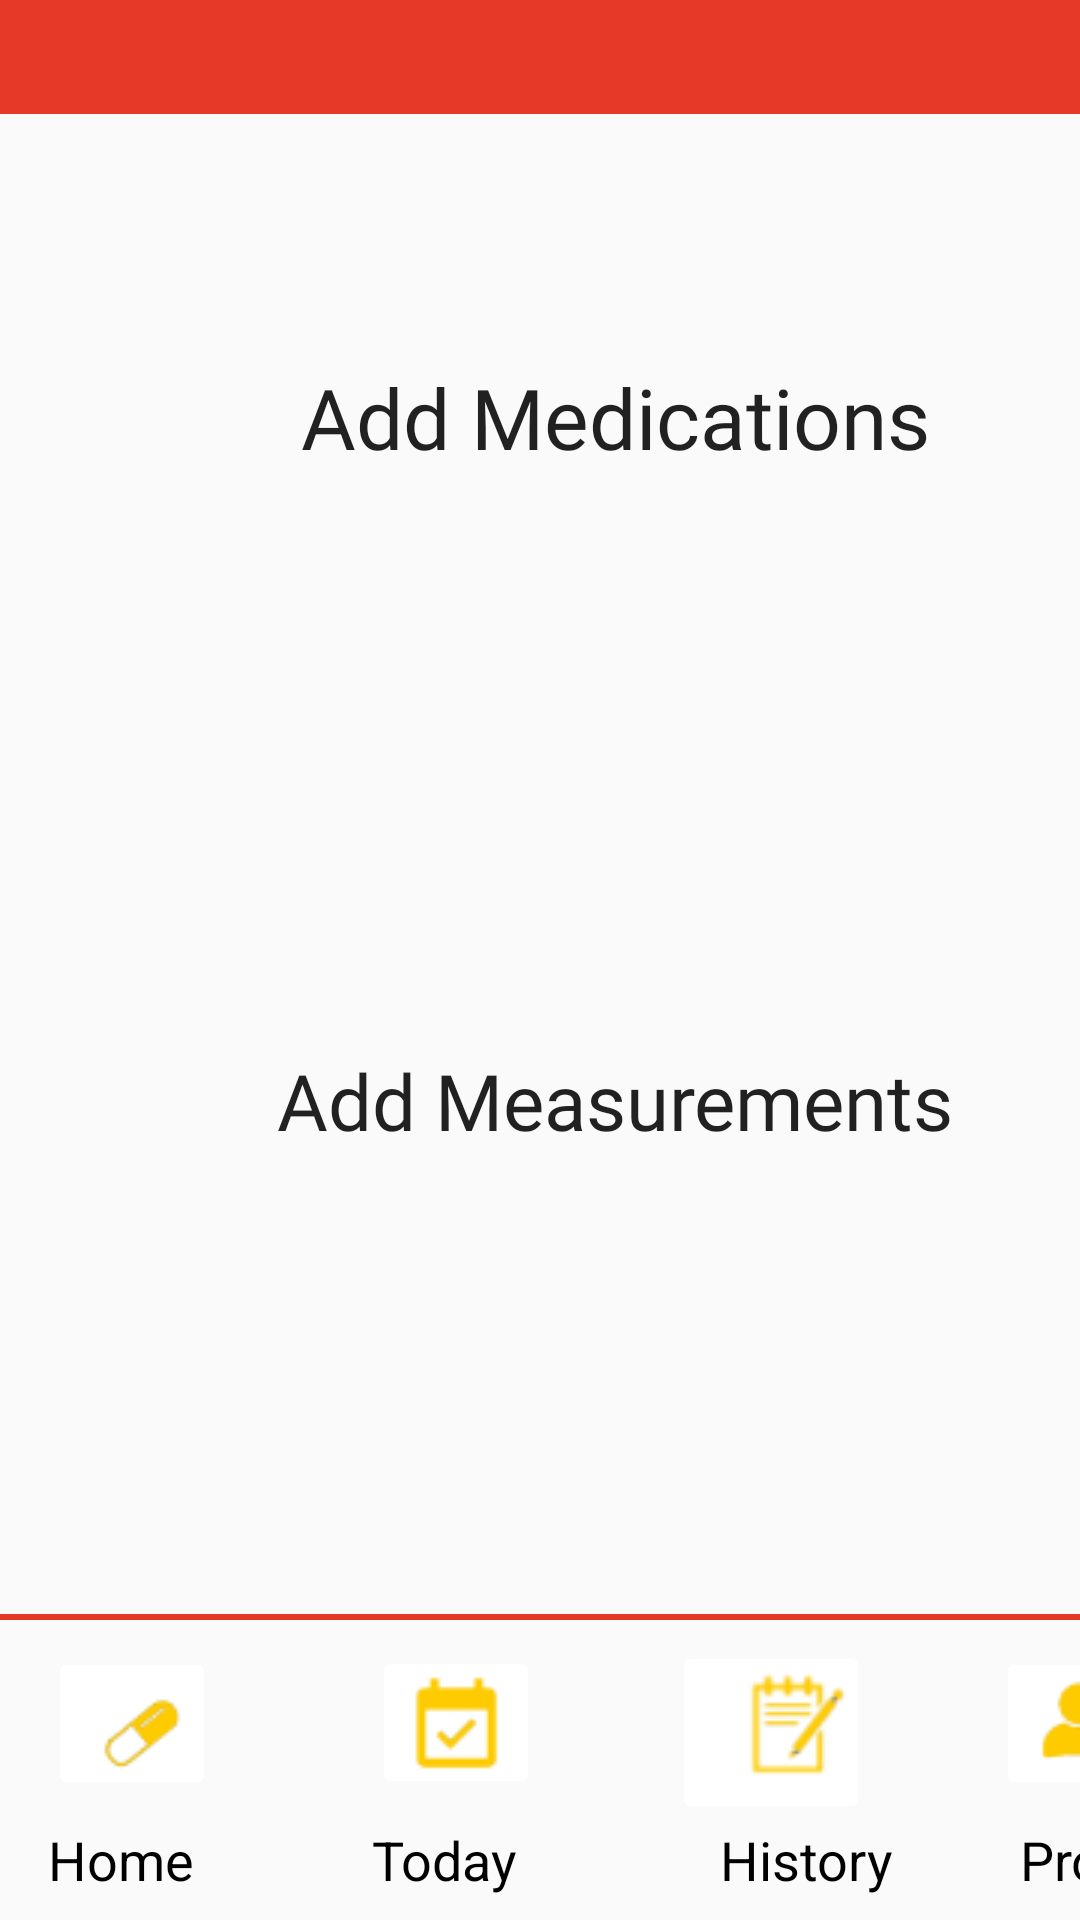

Screen size 1080px x 1920px. Icon name, then its box in pixels as BBox(x1, y1, x2, y2):
calendarr: BBox(415, 1677, 498, 1769)
